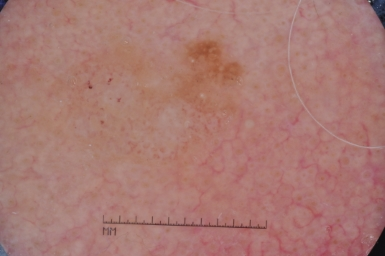seborrheic keratosis: (58, 25, 274, 197)
